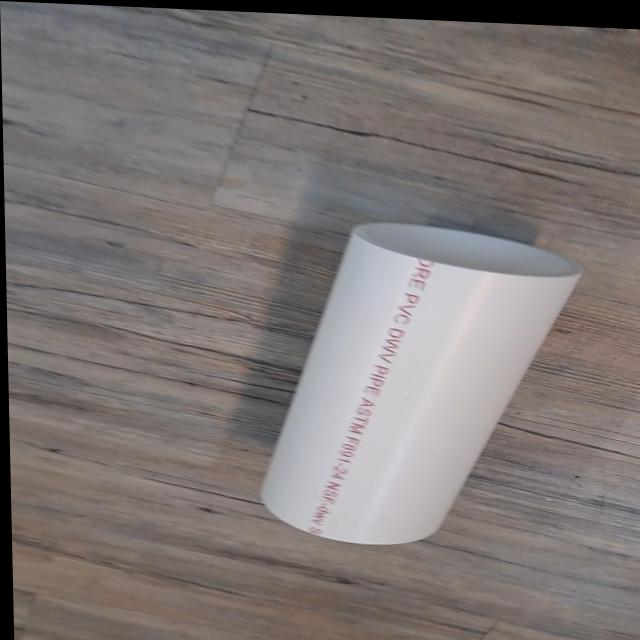CORAL: (246, 209, 596, 557)
